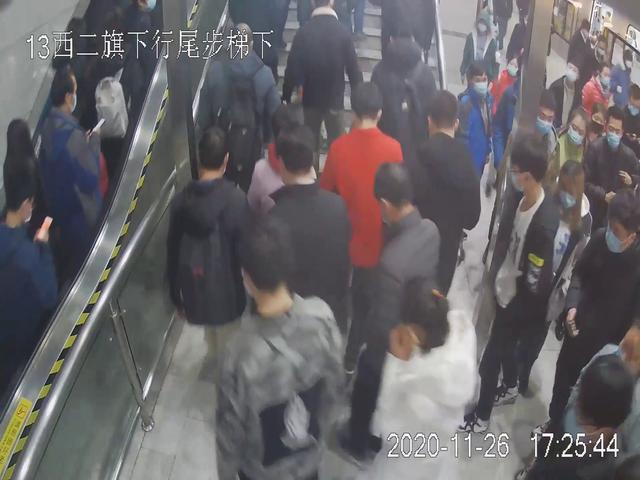person: (199, 217, 361, 480), (458, 133, 562, 436), (167, 125, 274, 406), (257, 130, 358, 333), (355, 167, 444, 391), (325, 78, 406, 320), (398, 86, 477, 309), (36, 63, 106, 276), (280, 1, 367, 163)
